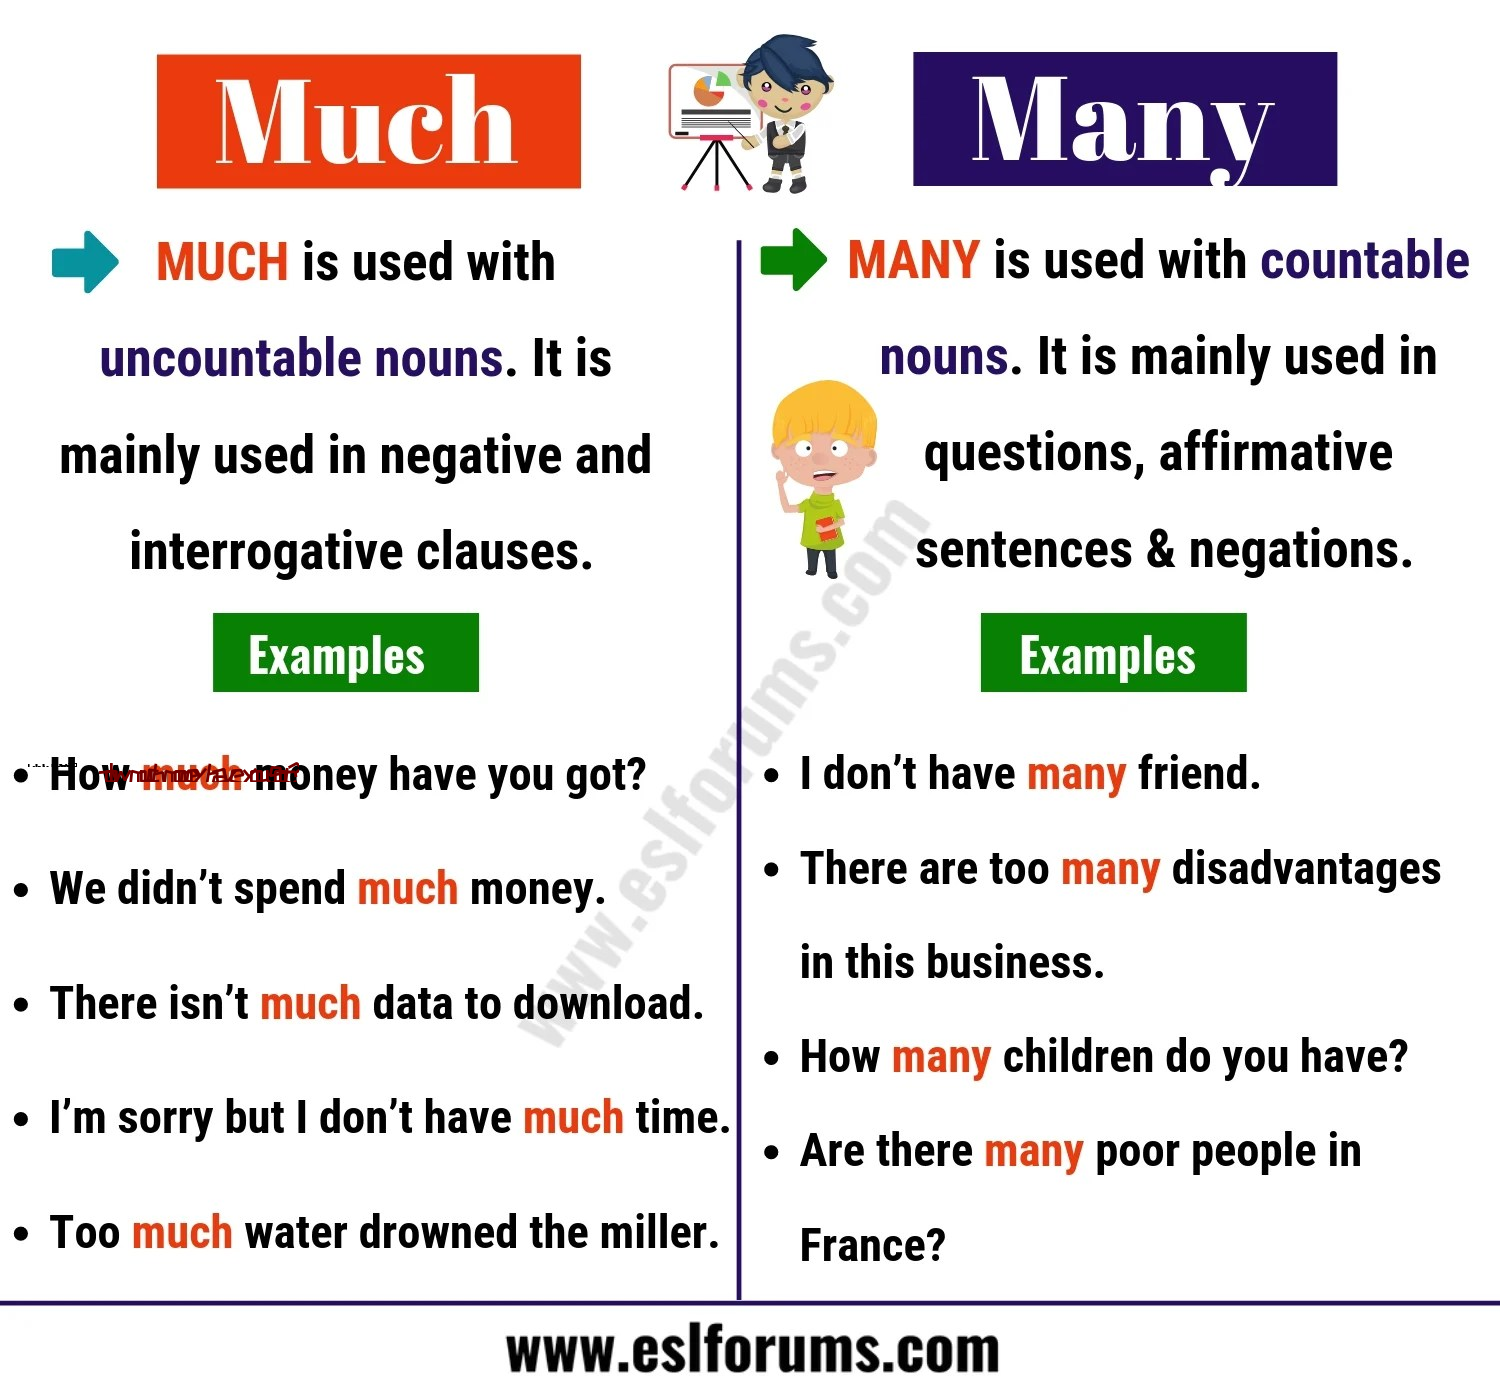h_text: (99, 761, 299, 782), (28, 761, 78, 768)
